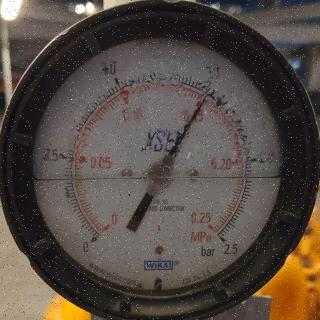gauge: (0, 0, 320, 320), (208, 225, 238, 257), (147, 162, 173, 188), (89, 224, 116, 246), (203, 83, 217, 97)
